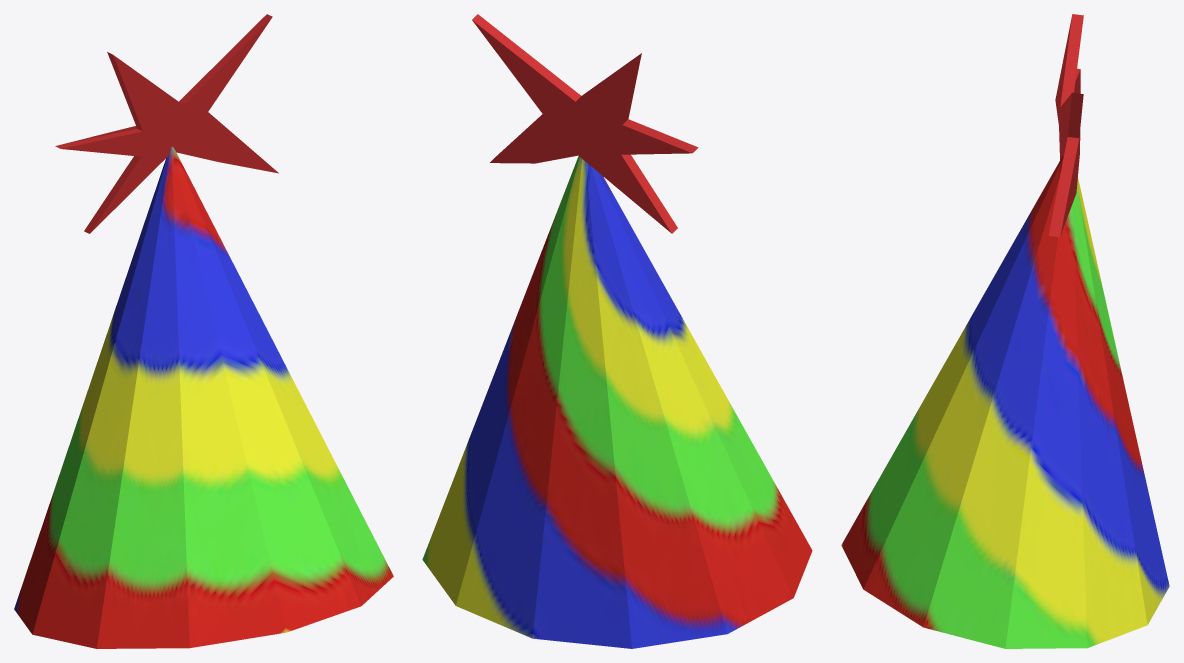
Rendered from amogus-hat-bday.fbx.
3 views of the same model, side by side, from view 1: azimuth 30°, elevation 25°; view 2: azimuth 150°, elevation 25°; view 3: azimuth 270°, elevation 25° (orthographic). The views are drawn at different scales.
Parts seen in each view (by area): view 1: BDayHat; view 2: BDayHat; view 3: BDayHat.
Boxes of the visible parts, bbox=[...] form: BDayHat: bbox=[14, 14, 393, 648]; BDayHat: bbox=[422, 14, 812, 648]; BDayHat: bbox=[841, 14, 1169, 648].
Bounding box in the file's own units: 85.19 × 71.1 × 130.
